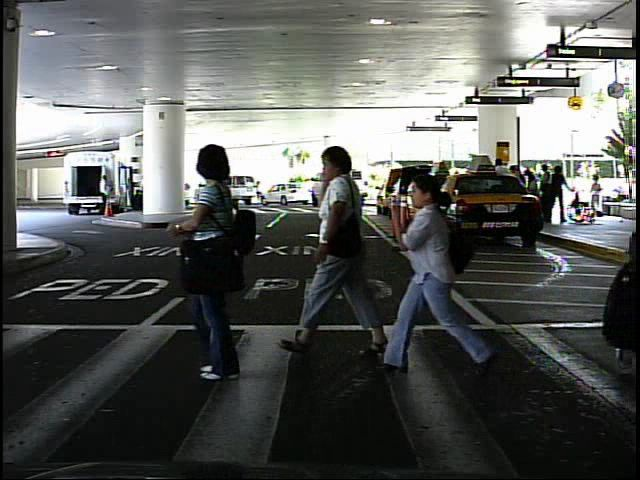person: (167, 141, 285, 388), (383, 160, 495, 381), (304, 138, 393, 359), (588, 173, 607, 218), (96, 172, 114, 204)
